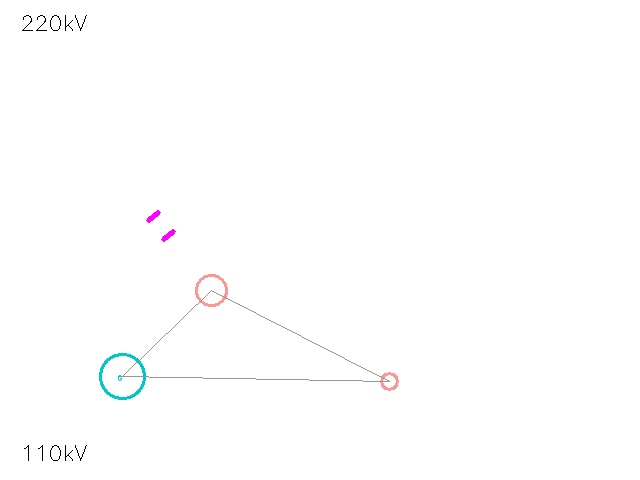capacitor: (141, 206, 181, 246)
feeder_terminal: (372, 364, 406, 398)
generator: (100, 354, 144, 398)
load_break_switch: (181, 260, 241, 320)
